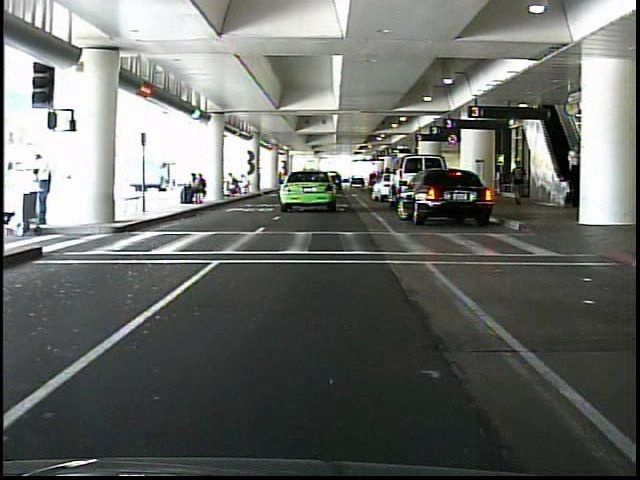person: (27, 152, 60, 228), (562, 141, 583, 200), (508, 157, 529, 210)
